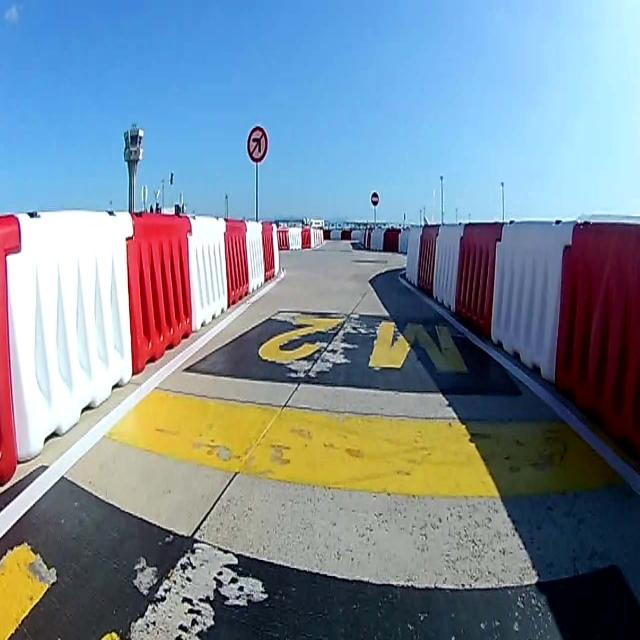soladonulmez: (247, 126, 267, 163)
